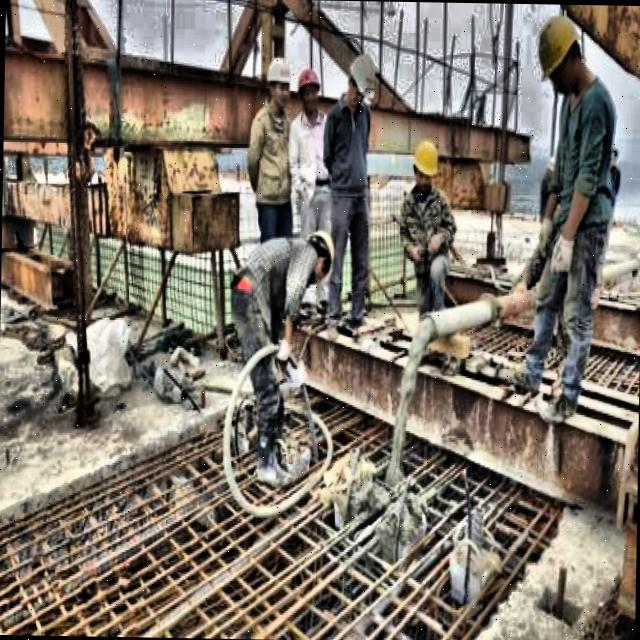helmet: (530, 6, 606, 102), (302, 228, 340, 286), (344, 52, 380, 111), (264, 53, 296, 116), (409, 137, 442, 194), (296, 66, 324, 114)
